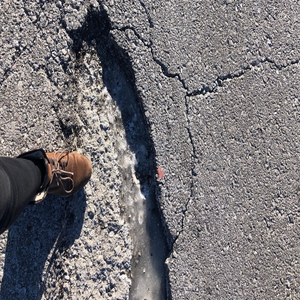pothole: (60, 4, 179, 299)
